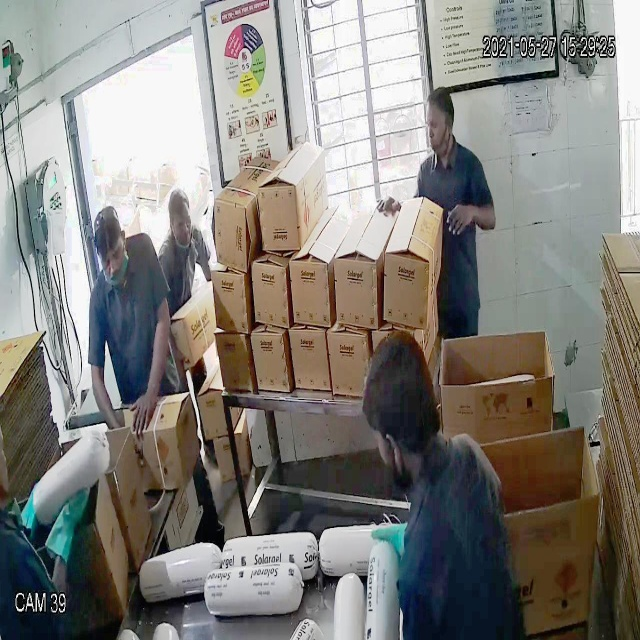Sin_gafas: (96, 241, 129, 271), (423, 113, 450, 140)
